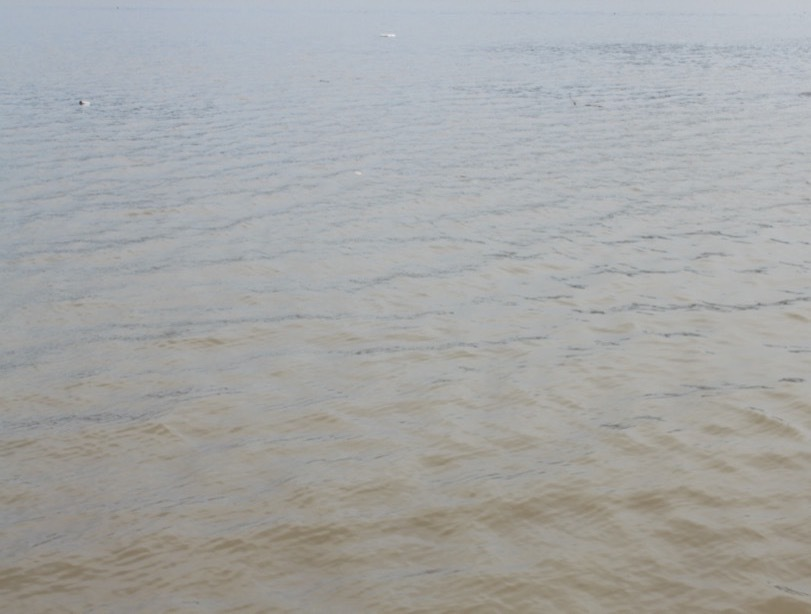plastic: (374, 24, 408, 48), (70, 92, 97, 111)
